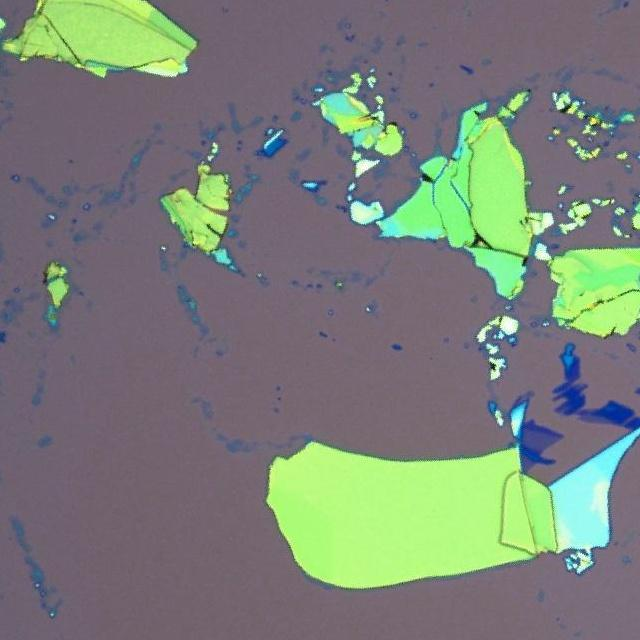monolayer-eWW4: (523, 429, 560, 456), (579, 414, 612, 426), (522, 454, 534, 472)
